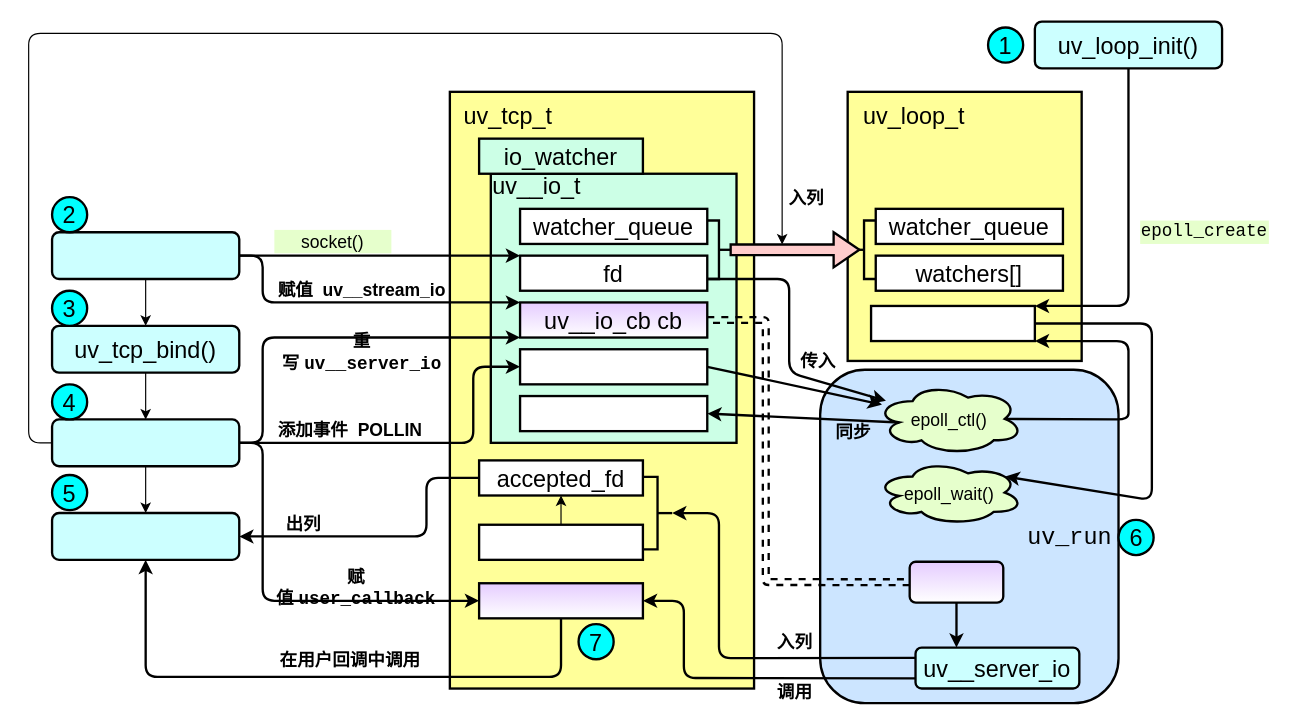
The diagram is 1289 pixels wide and 724 high, and some of its shapes have lost their labels. The shapes that lost their labels are listed below. From the top down, each one's centre as x and y in pixels, then its label:
pixel 145 255: uv_tcp_init()
pixel 952 323: backend_fd
pixel 613 366: pevents
pixel 613 413: events
pixel 145 442: uv_listen()
pixel 145 535: uv_accept()
pixel 560 541: queued_fds
pixel 560 600: connection_cb
pixel 956 581: w->cb
